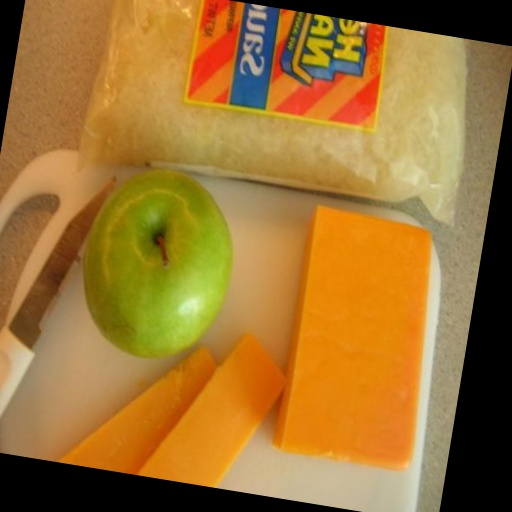fruit: (83, 170, 232, 357)
